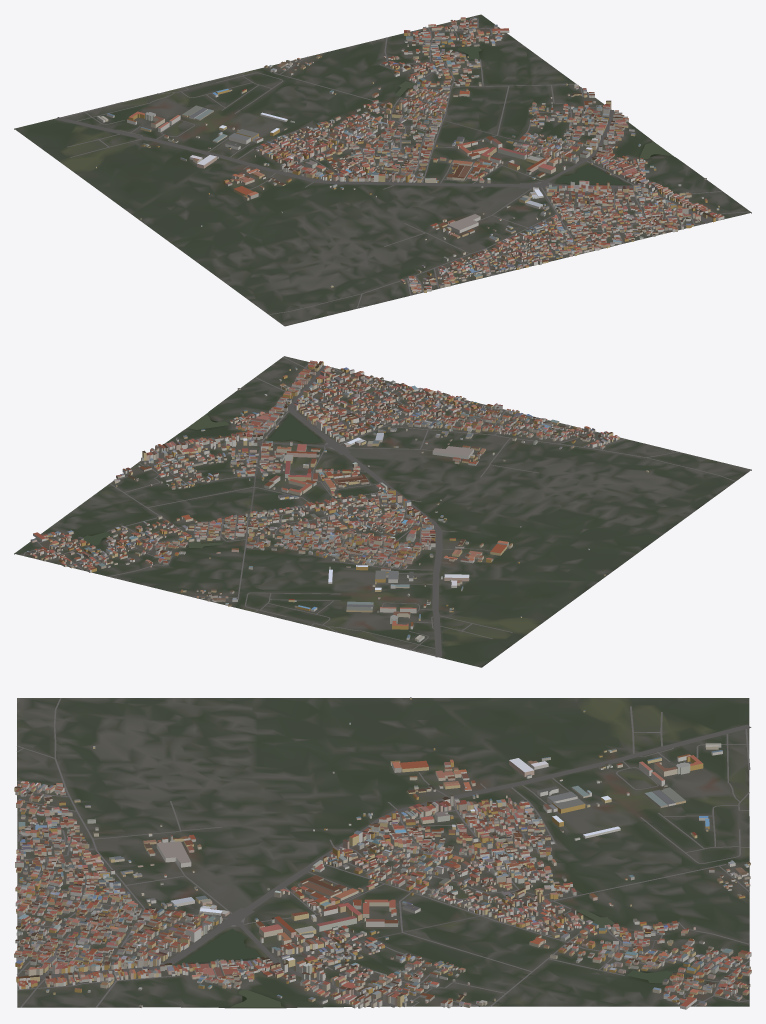
3 views of the same model, one above another, from view 1: azimuth 30°, elevation 25°; view 2: azimuth 150°, elevation 25°; view 3: azimuth 270°, elevation 25° (orthographic). The views are drawn at different scales.
Visible parts, largest first — view 1: ground, buildings, roads, water; view 2: ground, buildings, roads, water; view 3: ground, buildings, roads, water.
Part boxes in pixels (<box>): ground: <box>14,14,751,326</box>; buildings: <box>96,17,724,293</box>; roads: <box>55,16,750,314</box>; water: <box>395,46,672,184</box>; ground: <box>14,356,751,667</box>; buildings: <box>26,360,648,642</box>; roads: <box>23,357,735,657</box>; water: <box>83,414,322,548</box>; ground: <box>17,698,749,1008</box>; buildings: <box>14,697,751,1009</box>; roads: <box>17,698,751,1007</box>; water: <box>178,909,672,1007</box>.
Size of the model in its own units: 1412 by 28.63 by 1413.
